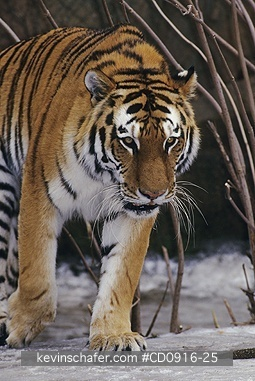tigre: (1, 23, 205, 351)
